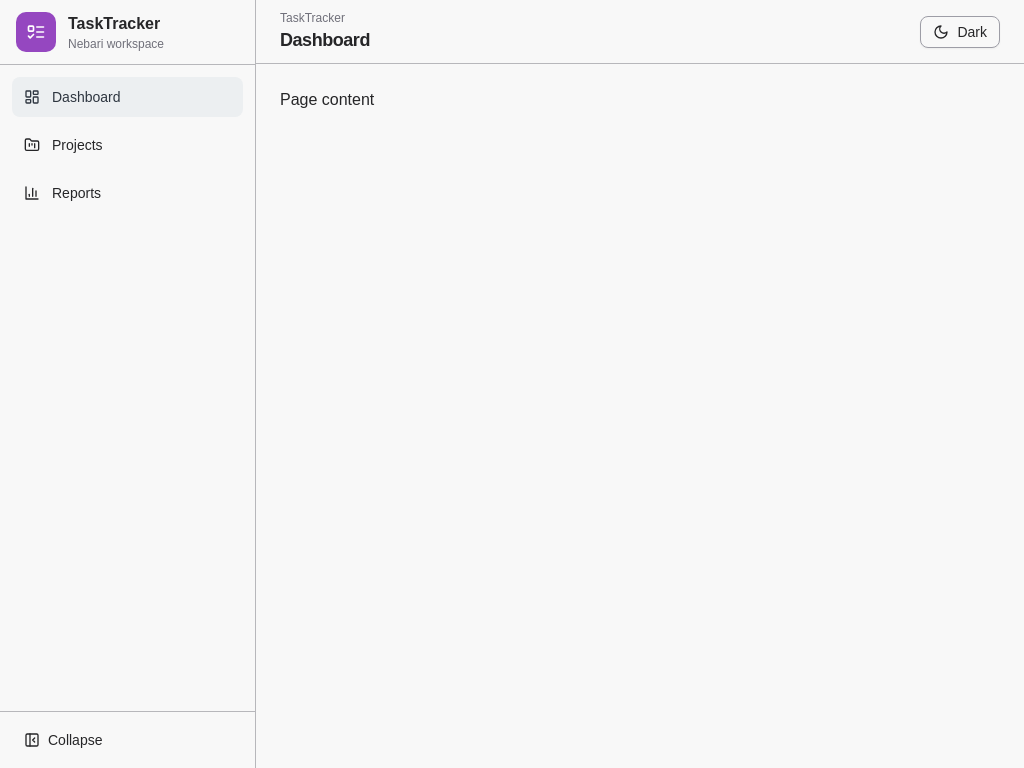
AppShell › collapses the sidebar
Click the button with aria-label "collapse sidebar".
click(128, 740)  # box [12,724,243,756]
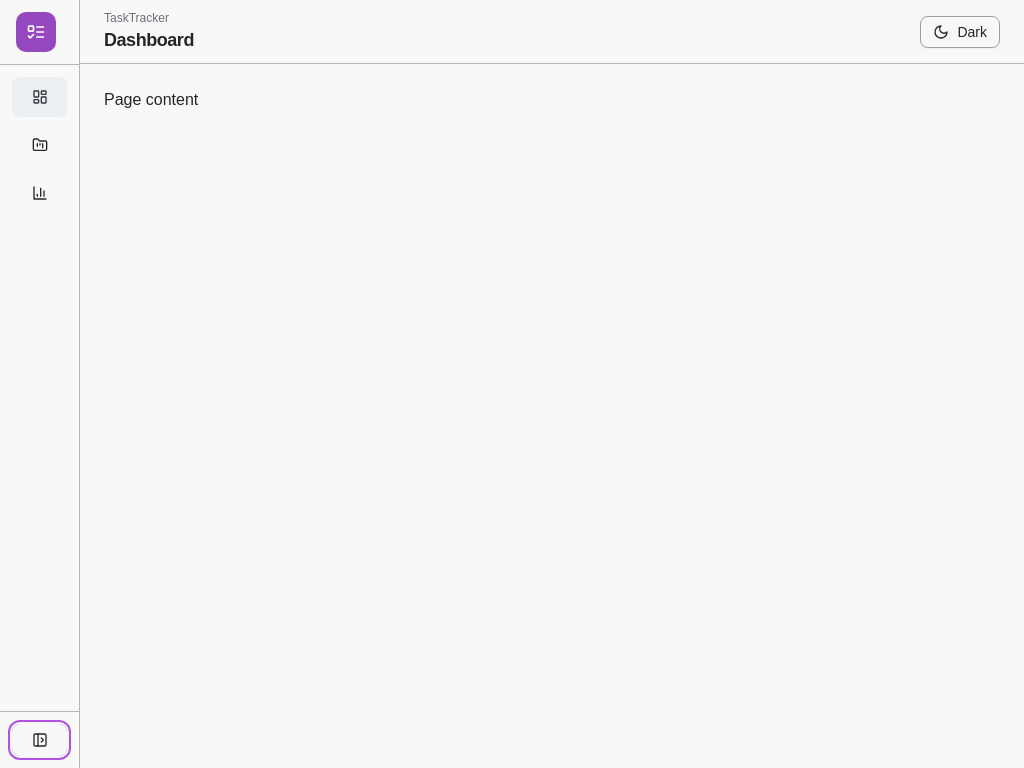
Expected: the button named "expand sidebar" is collapsed, [12,724,67,756]
